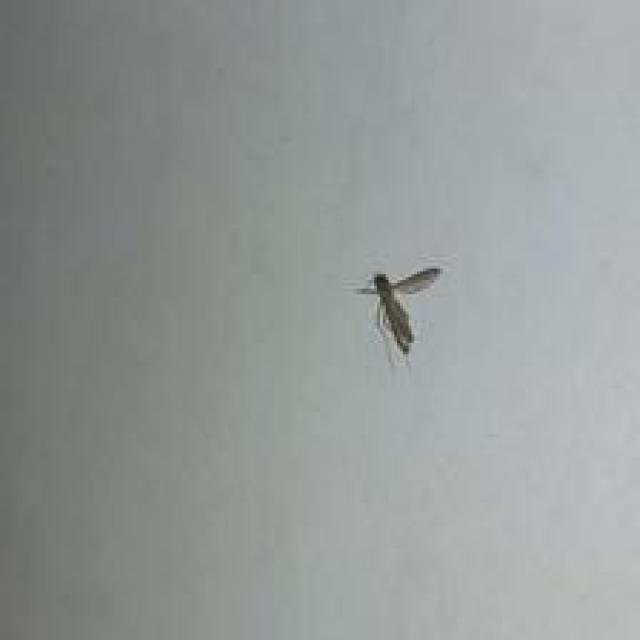Culex: (351, 266, 443, 368)
